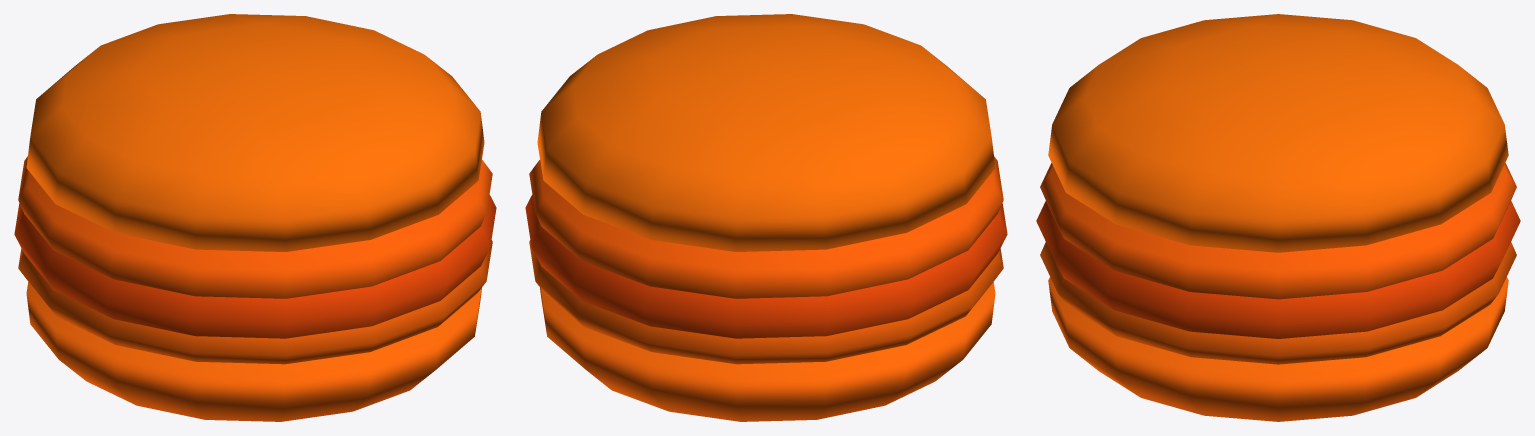
The model's file is Cookie_04.glb.
3 renders of one model, left to right at view 1: azimuth 30°, elevation 25°; view 2: azimuth 150°, elevation 25°; view 3: azimuth 270°, elevation 25°, orthographic.
Visible parts, largest first — view 1: Cookie_04; view 2: Cookie_04; view 3: Cookie_04.
Boxes of the visible parts, x1,y1,x2,y2 form: Cookie_04: (14, 14, 496, 421); Cookie_04: (525, 14, 1007, 421); Cookie_04: (1036, 14, 1520, 421).
Size of the model in its own units: 2.05 by 1.44 by 2.05.
Materials: 1 (1 with a texture image).
